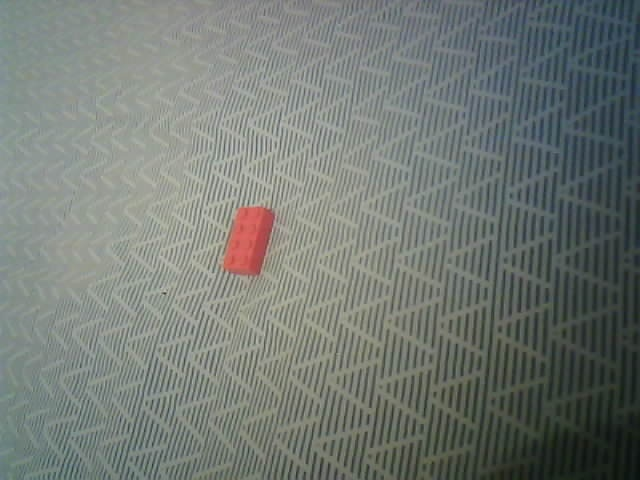lego: (222, 206, 275, 276)
